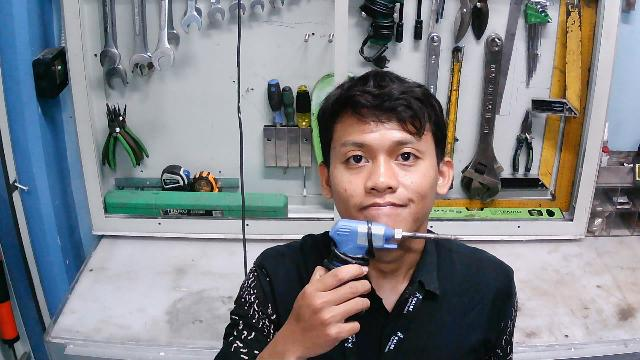solder_electrical: (325, 211, 467, 299)
